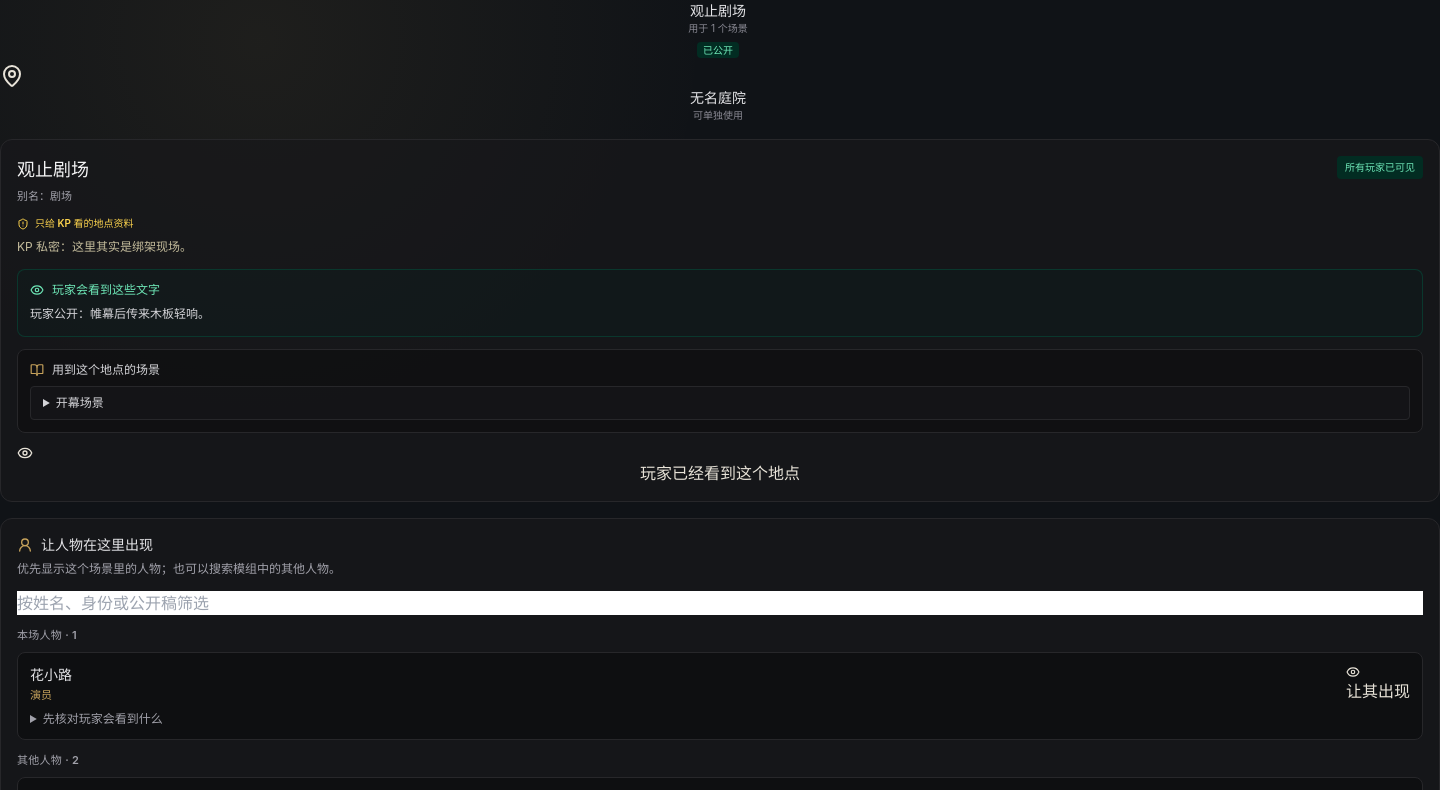
Test: KeeperSceneControls › publishes an NPC only to a published location and only with playerDescription
(page scrolled)
Click the button with aria-label "让花小路在这里出现".
click(1378, 684)  # box [1346,664,1410,702]
(page scrolled)
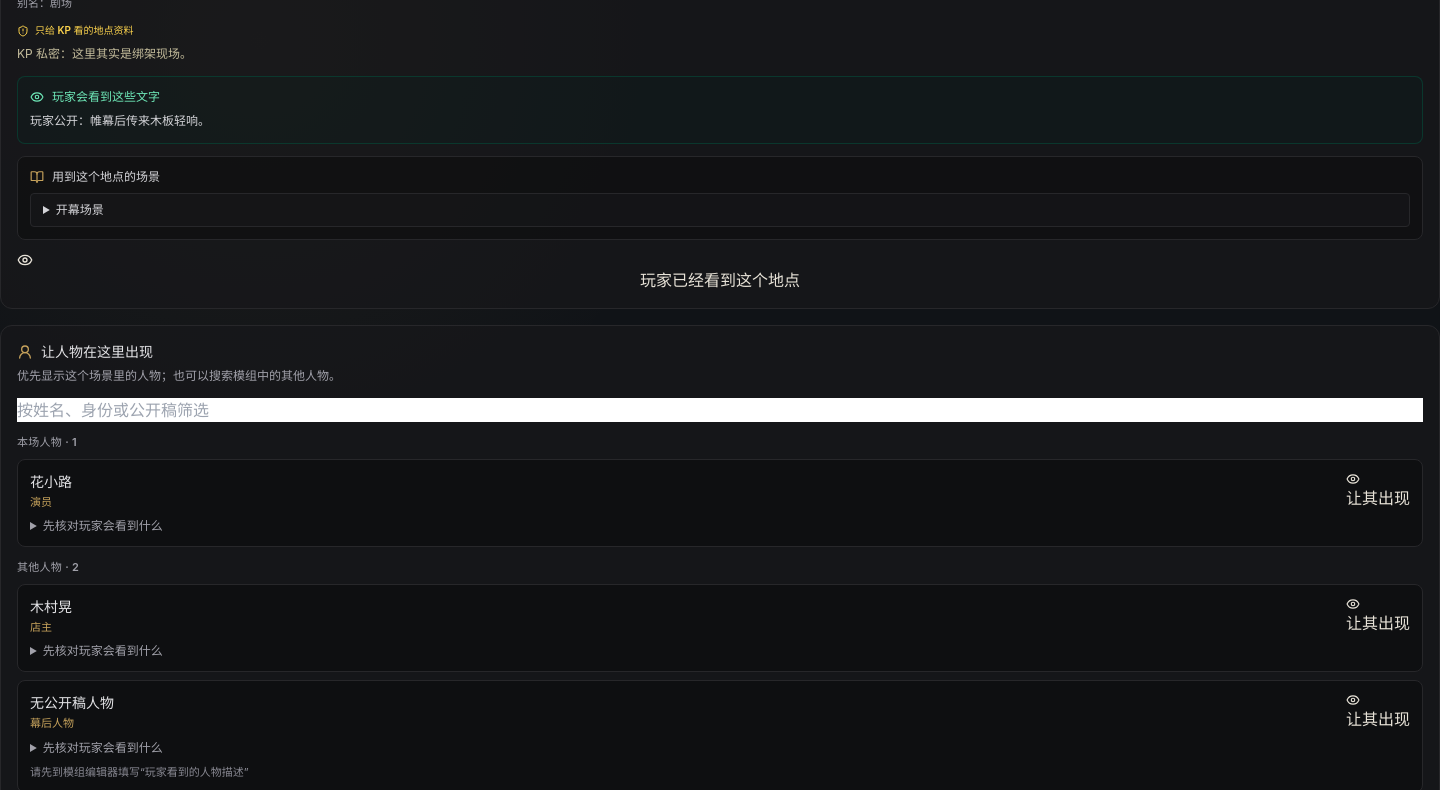
Expected: the button with aria-label "让无公开稿人物在这里出现" is disabled, [1346,693,1410,731]
